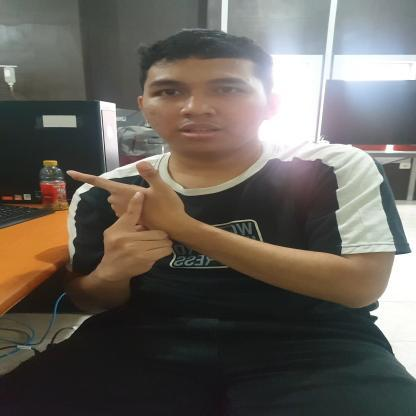Y: (61, 160, 188, 259)
